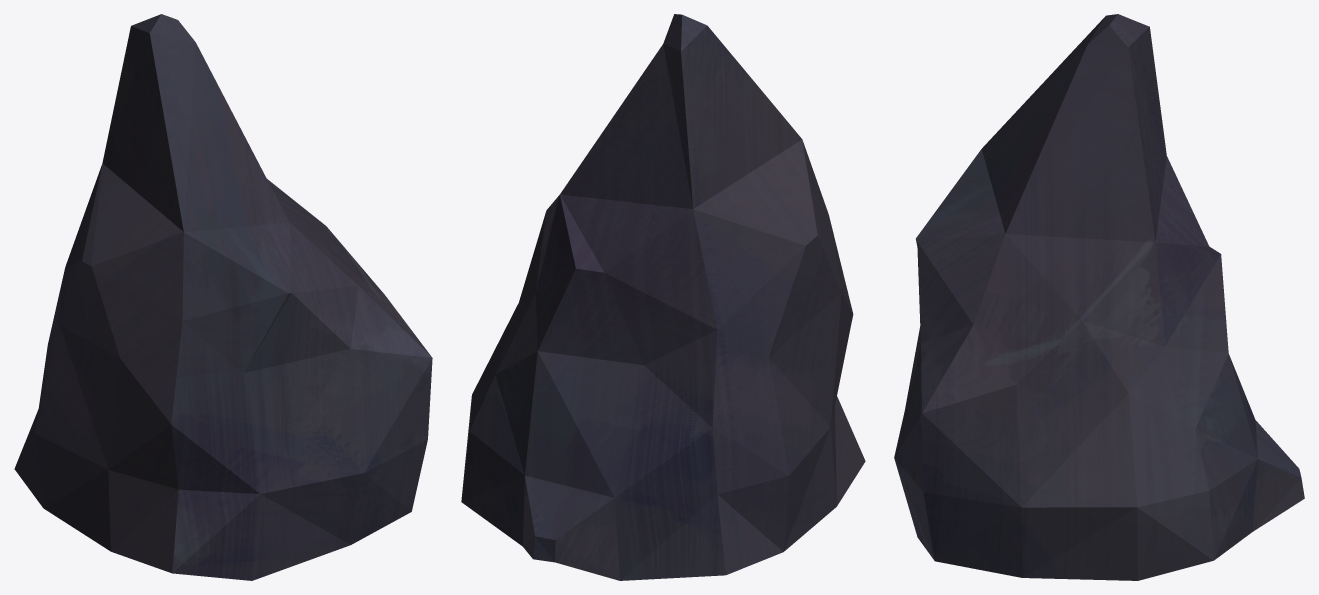
Rendered from Rock08.fbx.
3 renders of one model, left to right at view 1: azimuth 30°, elevation 25°; view 2: azimuth 150°, elevation 25°; view 3: azimuth 270°, elevation 25°, orthographic. The views are drawn at different scales.
Visible parts, largest first — view 1: Rock08; view 2: Rock08; view 3: Rock08.
Boxes of the visible parts, bbox=[...] form: Rock08: bbox=[14, 14, 432, 580]; Rock08: bbox=[461, 14, 865, 580]; Rock08: bbox=[894, 14, 1304, 580].
Size of the model in its own units: 0.446 by 0.7071 by 0.5191.
1 material, 1 textured.
